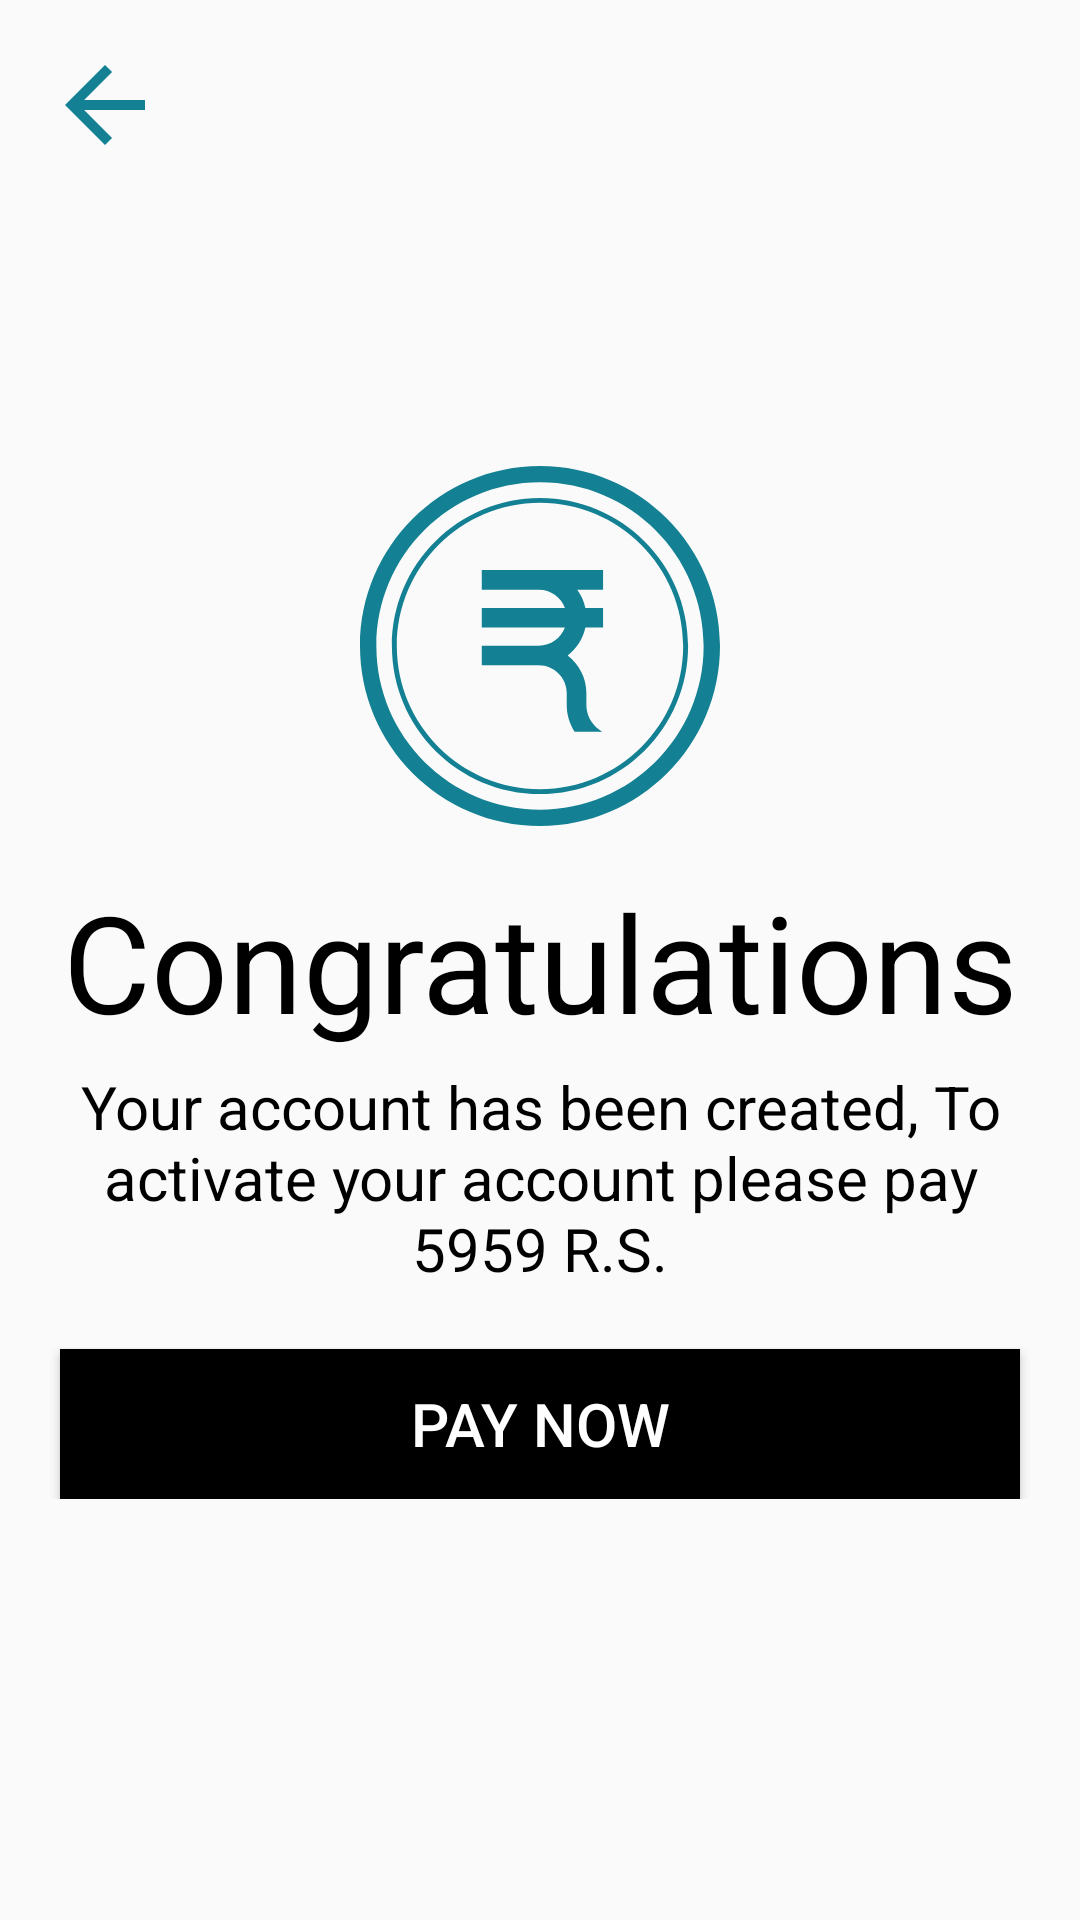

Where icons sit on this 1080*1920 app screen, as BBox(x1, y1, x2, y2):
back: BBox(65, 65, 145, 145)
indian currency: BBox(360, 466, 720, 826)
